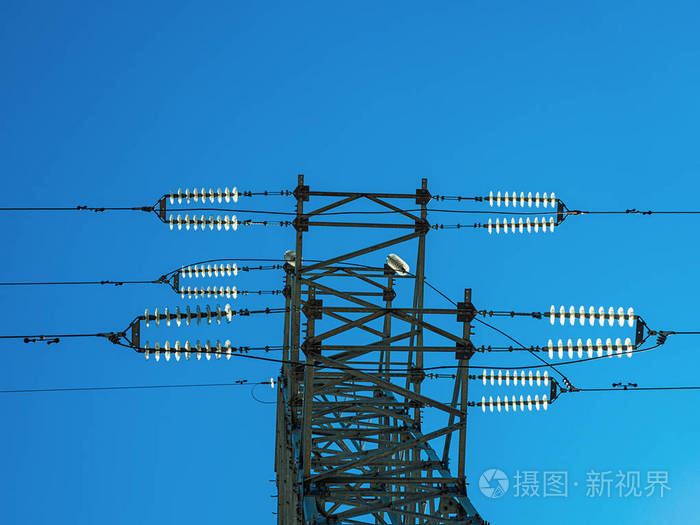insulator: (142, 302, 235, 328), (544, 336, 634, 360), (142, 339, 234, 362), (546, 305, 636, 326), (475, 393, 549, 413), (479, 367, 552, 387), (483, 216, 554, 235), (165, 185, 239, 203), (485, 190, 557, 208), (165, 215, 241, 231), (177, 284, 241, 301), (181, 262, 240, 279)
